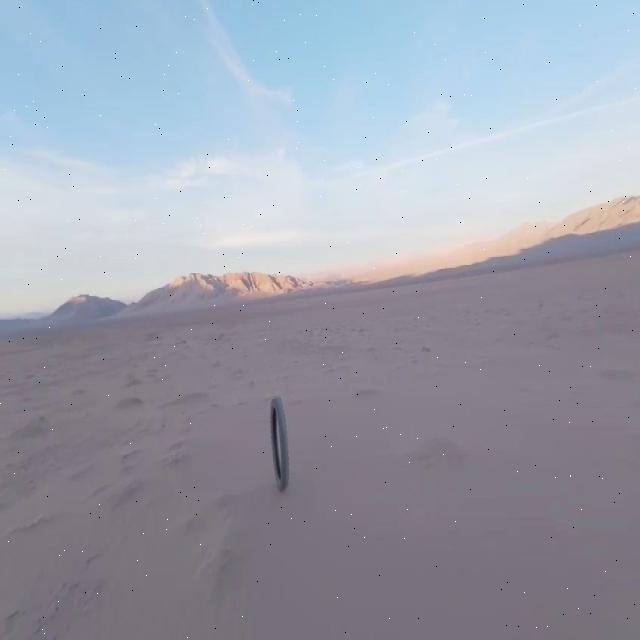Tire: (270, 398, 289, 490)
